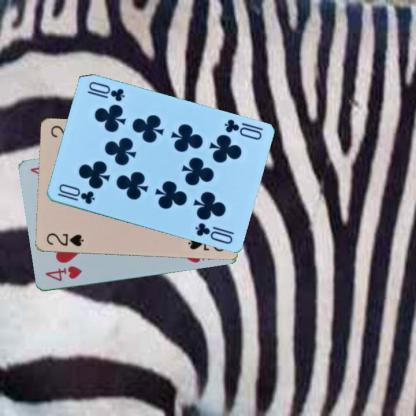10c: (221, 116, 263, 142), (55, 181, 96, 206)
2s: (43, 230, 85, 248)
4h: (42, 264, 83, 283)
